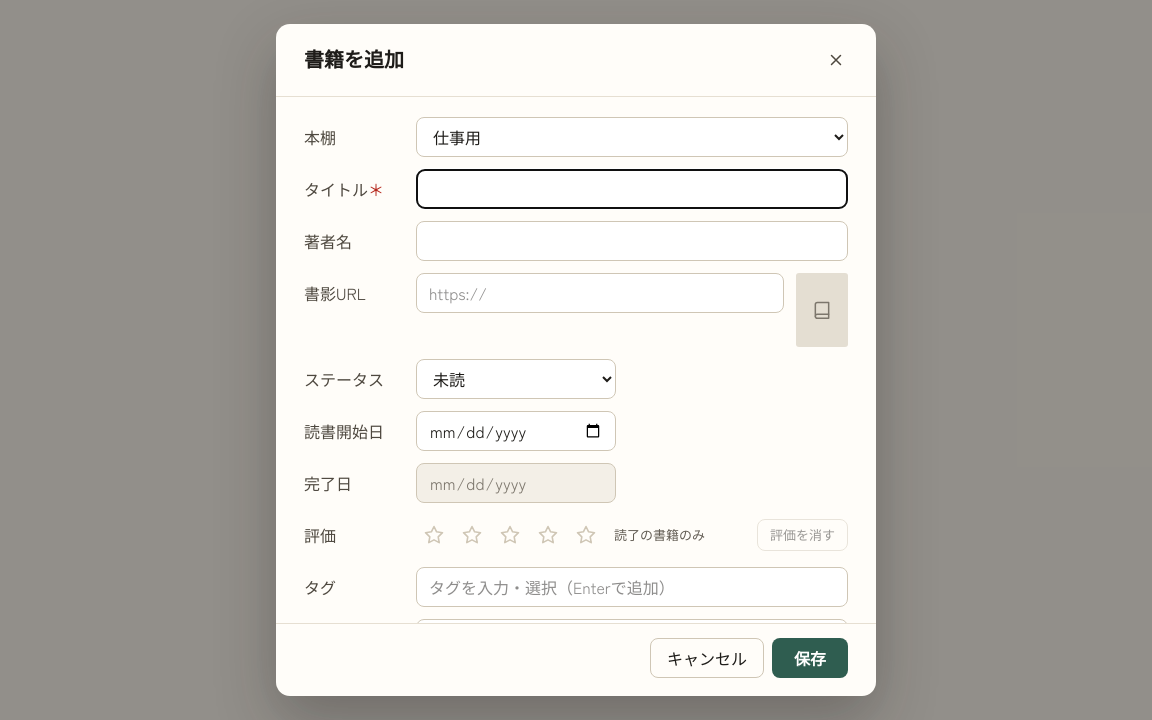
Scenario: タグの入力 › Enter の場合、表記ゆれだけが違う既存タグがあれば、その表記で追加する
This screenshot has width=1152, height=720.
Type "ruby" into the field labelled "タグ".
click(632, 587); type("ruby")  # box x1=425 y1=573 x2=839 y2=601
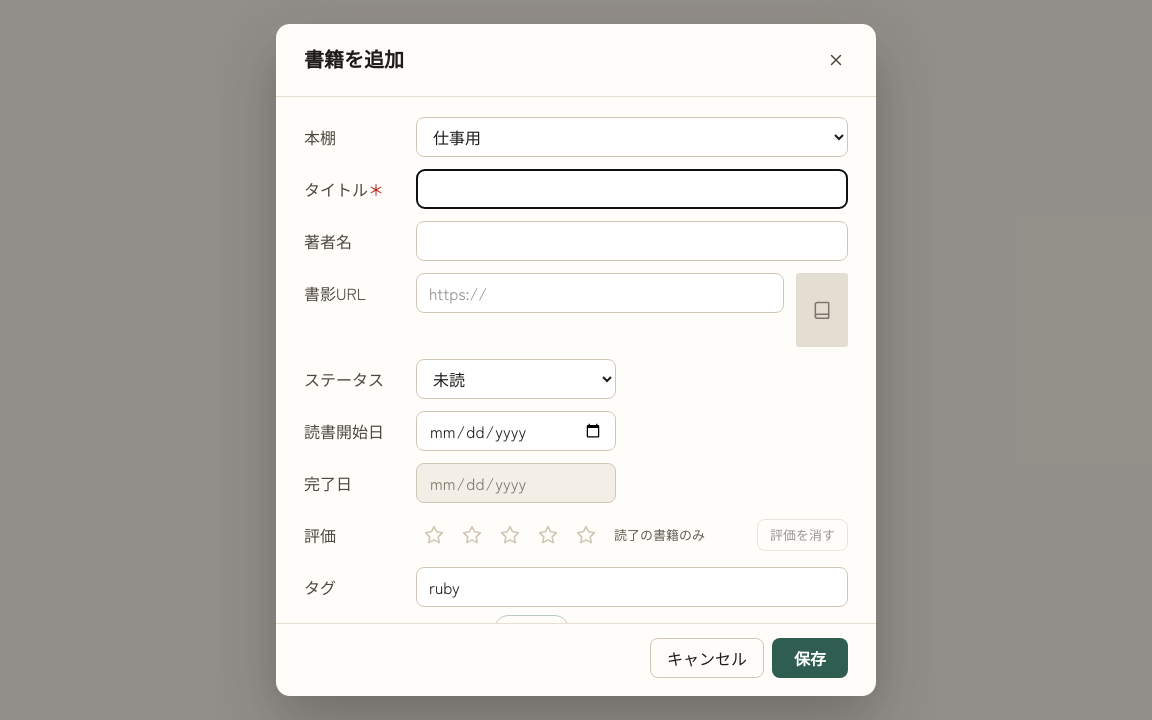
Press Enter in the field labelled "タグ", box x1=425 y1=573 x2=839 y2=601
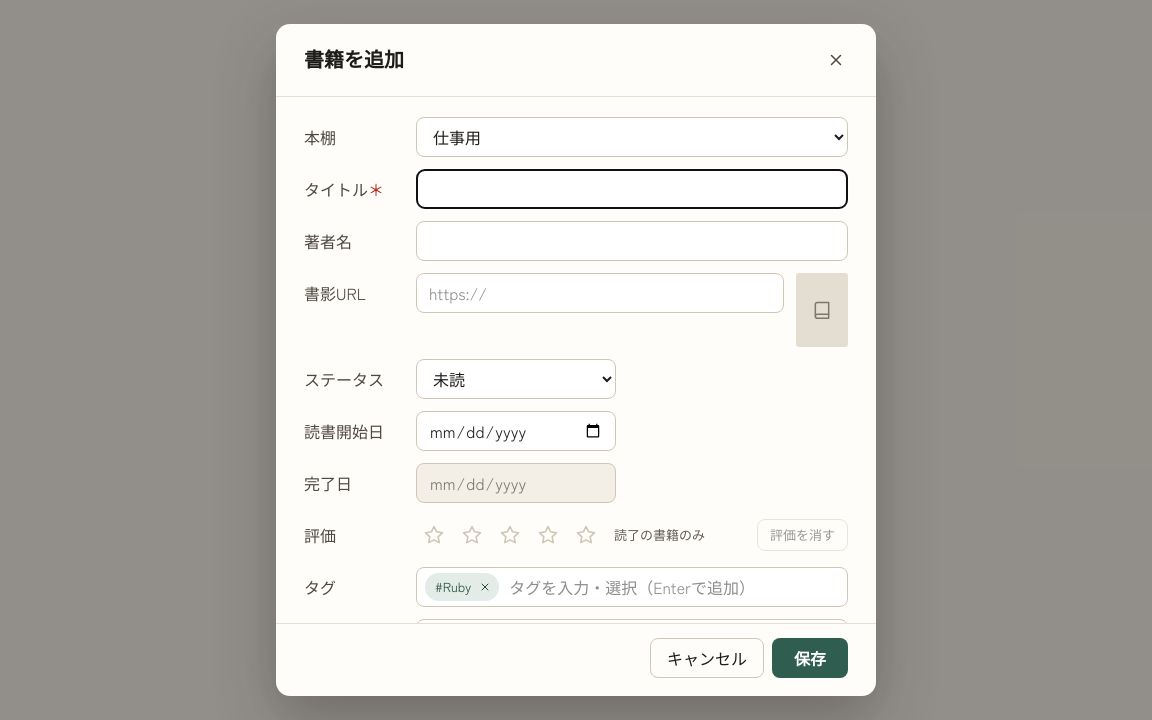
expect the button named "タグ「Ruby」を外す" is shown: met, box x1=473 y1=575 x2=497 y2=599
